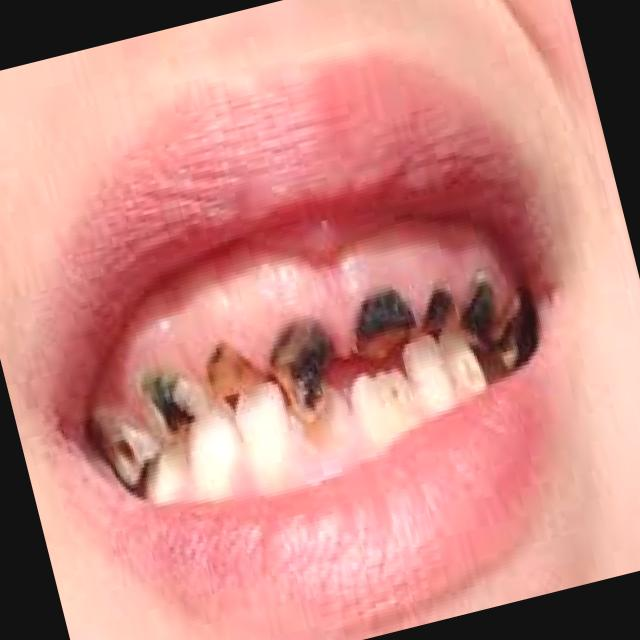caries: (261, 302, 355, 434), (129, 342, 213, 444), (338, 276, 422, 374), (449, 258, 520, 350), (200, 331, 272, 418), (410, 270, 461, 344)
